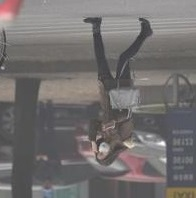person: (82, 14, 155, 167), (35, 100, 60, 198)
